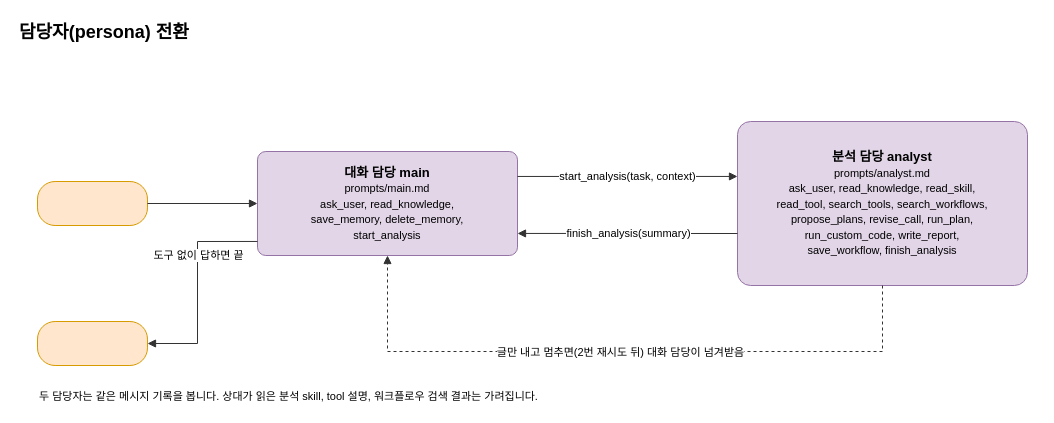
This 1054x423 diagram has some shape labels left out. The box of each missing label's shape, as (x1, y1, x2, y2) in pixels:
턴 끝: (36, 320, 148, 366)
턴 시작: (36, 180, 148, 226)
